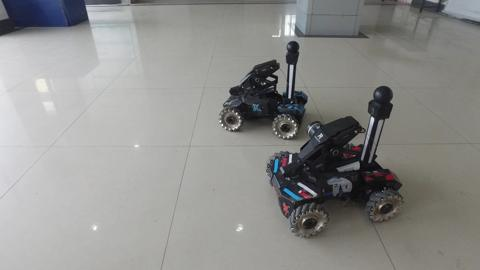chariot: (261, 80, 409, 241), (213, 35, 317, 146)
